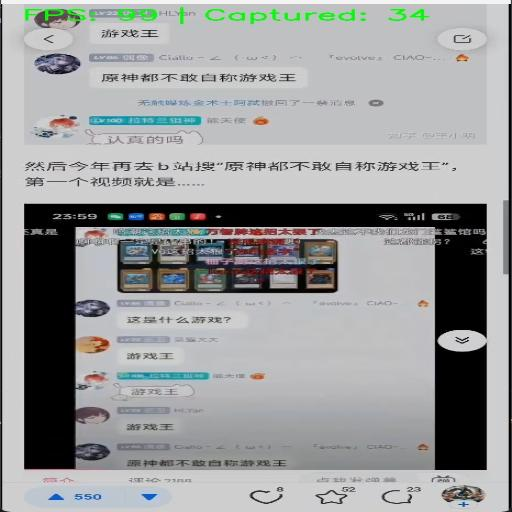back: (22, 29, 77, 52)
butten: (375, 479, 429, 506), (440, 328, 488, 351)
